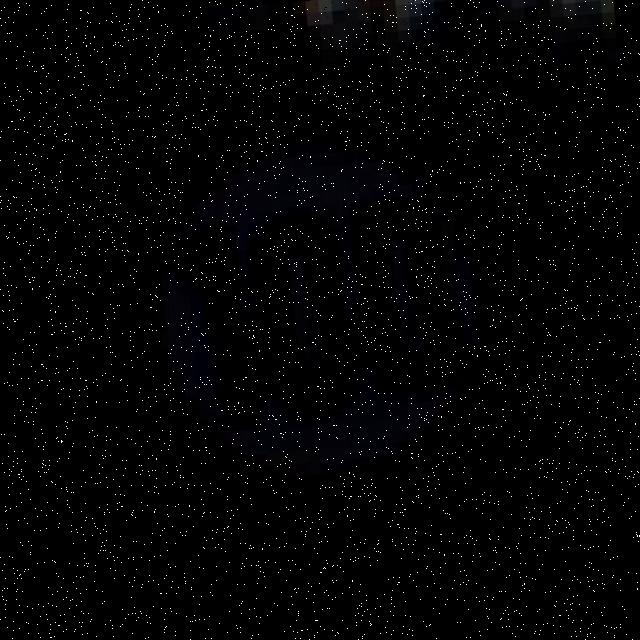Ograniczenie predkosci do 100: (77, 70, 559, 562)
